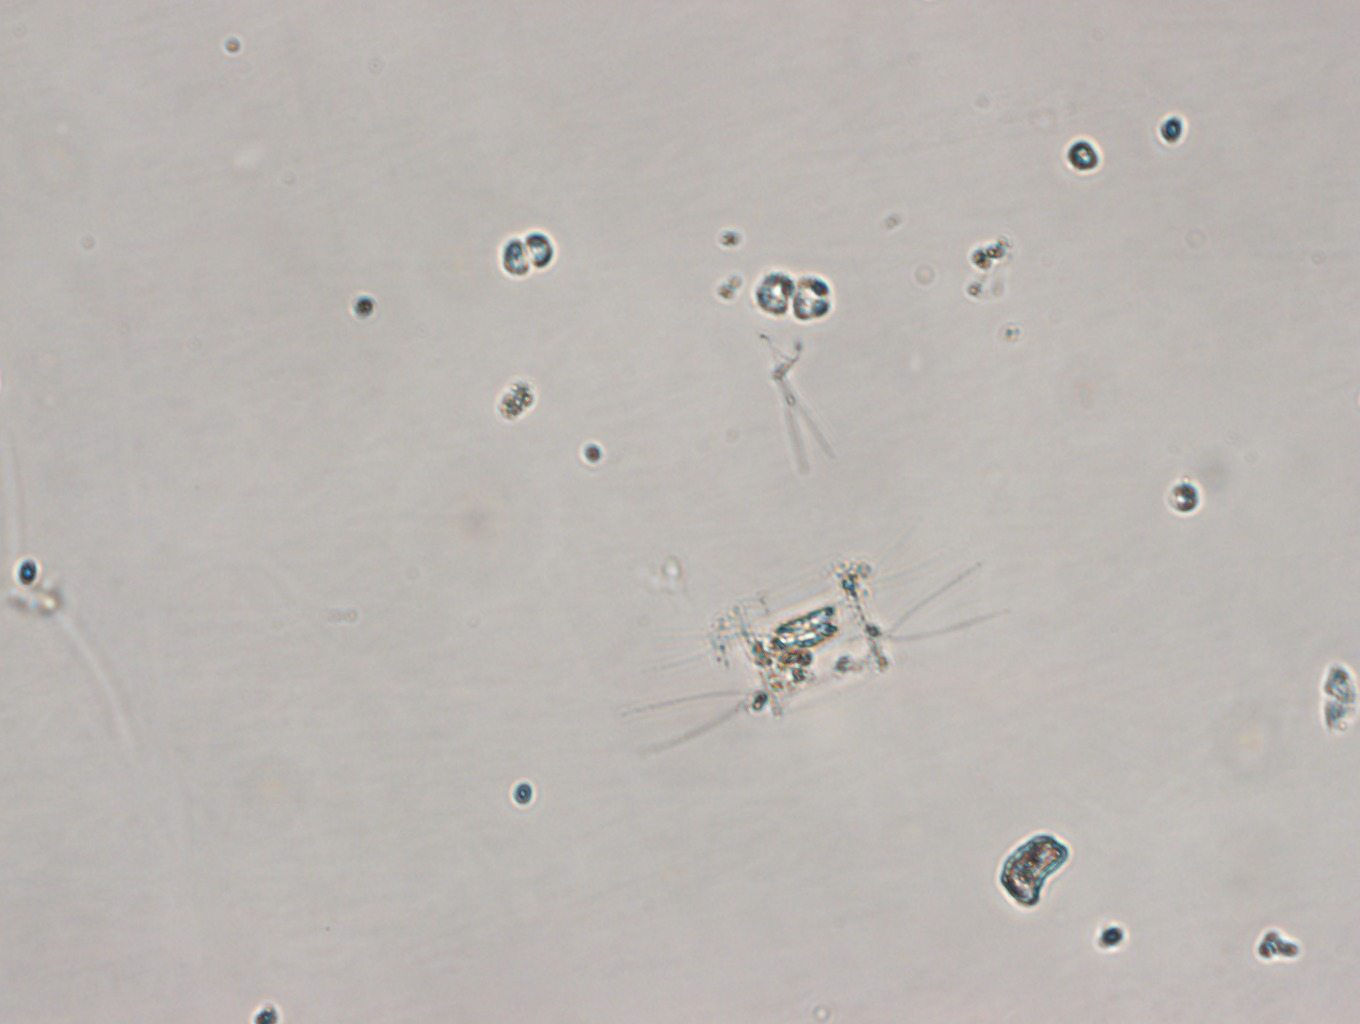chaetoceros: (645, 550, 1018, 763)
